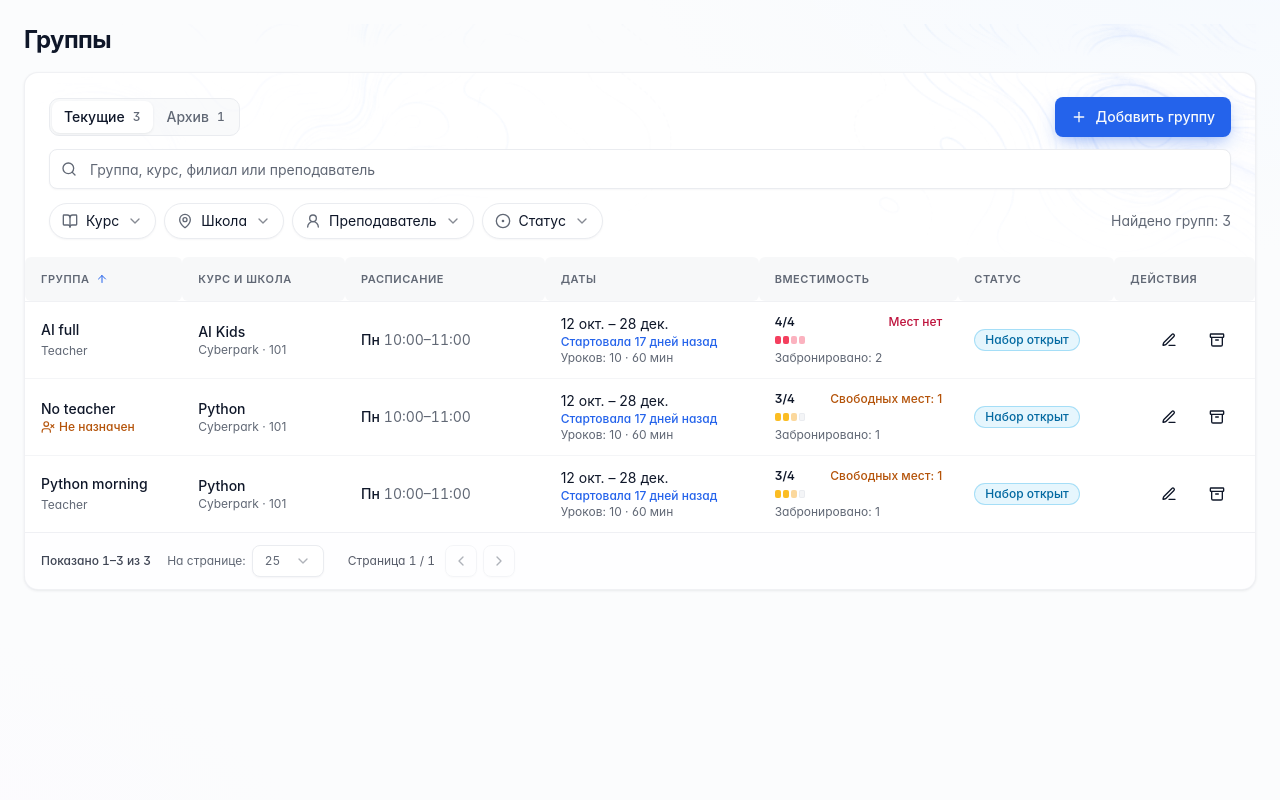
counts every filter option against the other active filters before it is picked
The width and height of the screenshot is (1280, 800).
Expected: the text "Python morning" is shown, [41, 474, 166, 494]
Expected: the button "Текущие 3" is shown, [52, 101, 152, 133]
Step 1. Click the dropdown labelled "Курс" → (103, 221), box [49, 203, 156, 239]
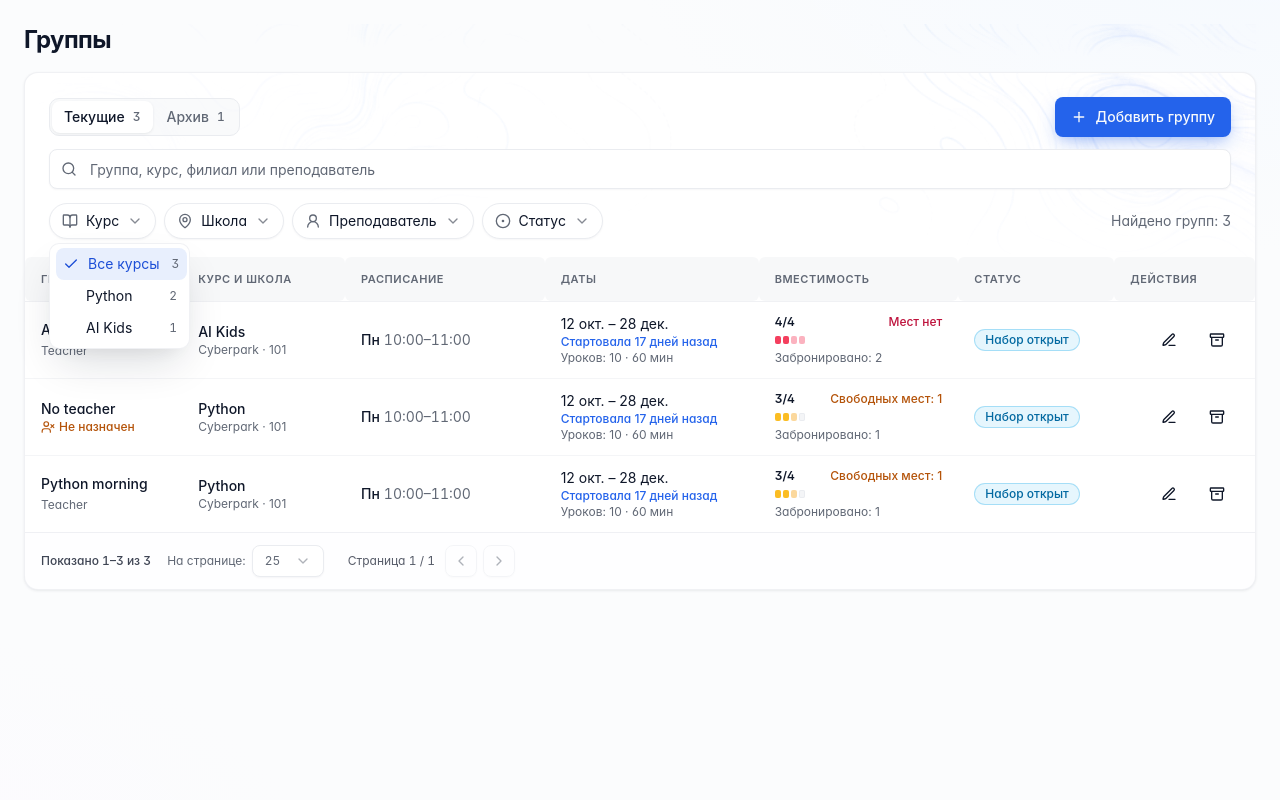
Result: the option "Python 2" is shown
Result: the option "AI Kids 1" is shown at [86, 319, 177, 336]
Step 2. Click the option "Python 2" → (132, 296), box [86, 287, 177, 304]
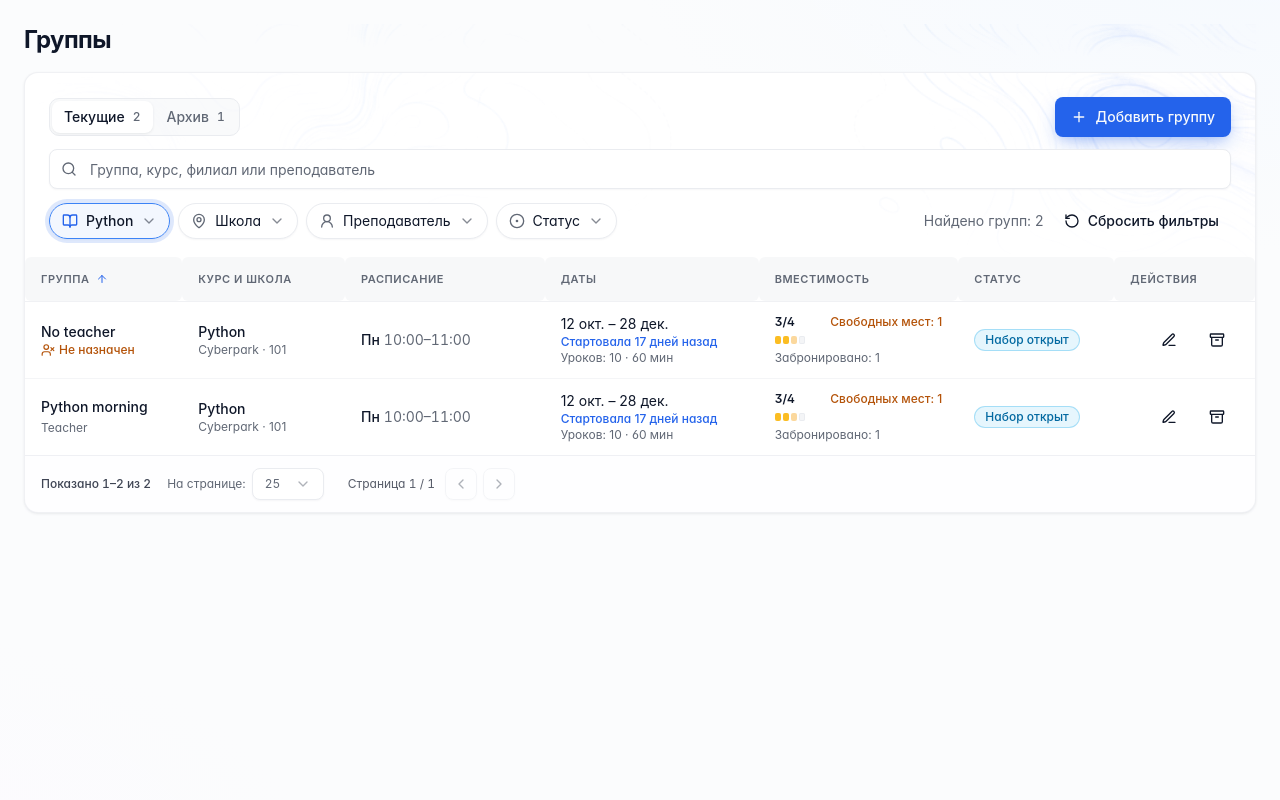
Result: the dropdown named "Курс" reads "Python" at [49, 203, 170, 239]
Result: the button "Текущие 2" is shown at [52, 101, 152, 133]
Result: the button "AI full" is gone
